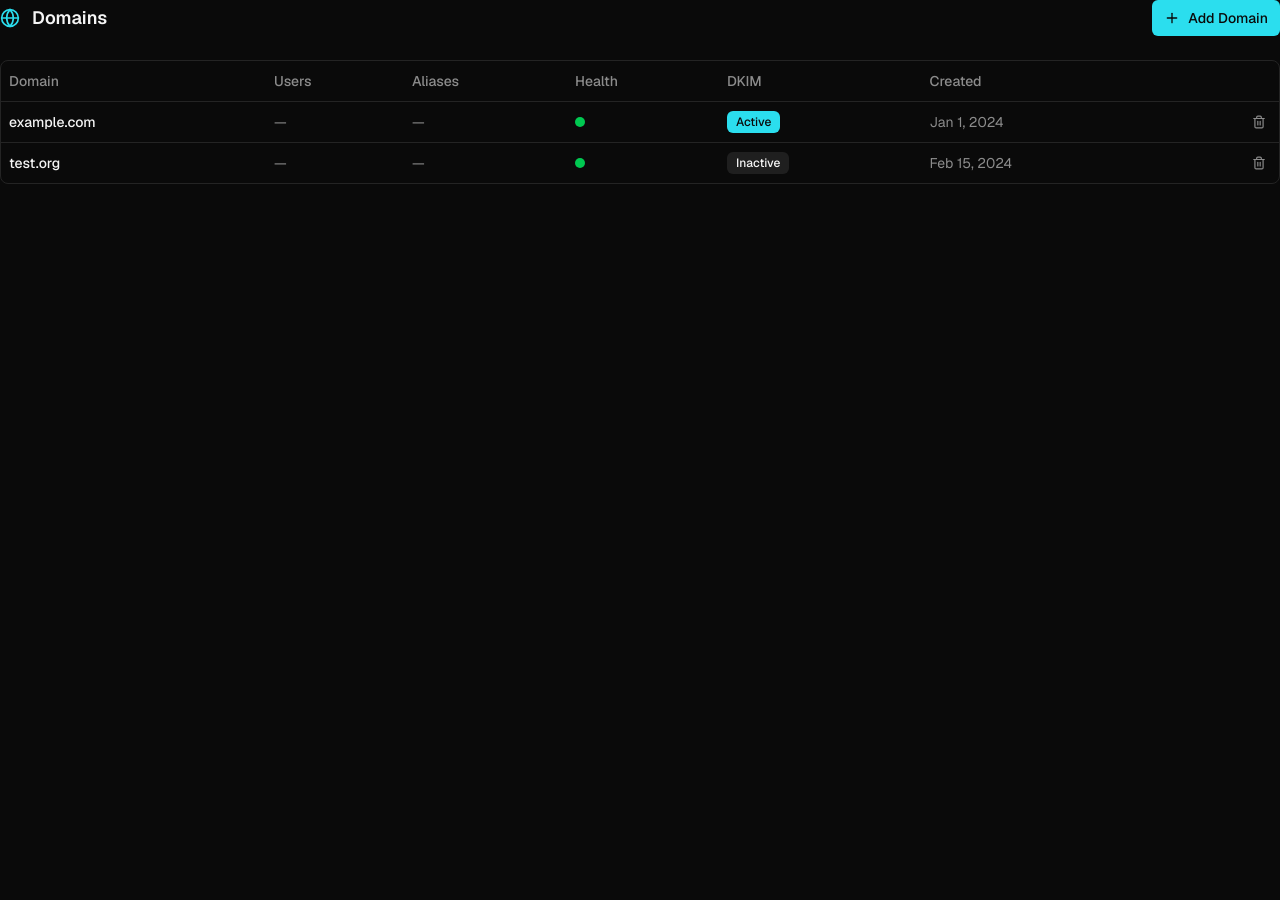
DomainsPage › opens delete dialog when delete button clicked
Step 1. Click the button with test id "delete-domain-1" → [1259, 122], box [1247,110,1271,134]
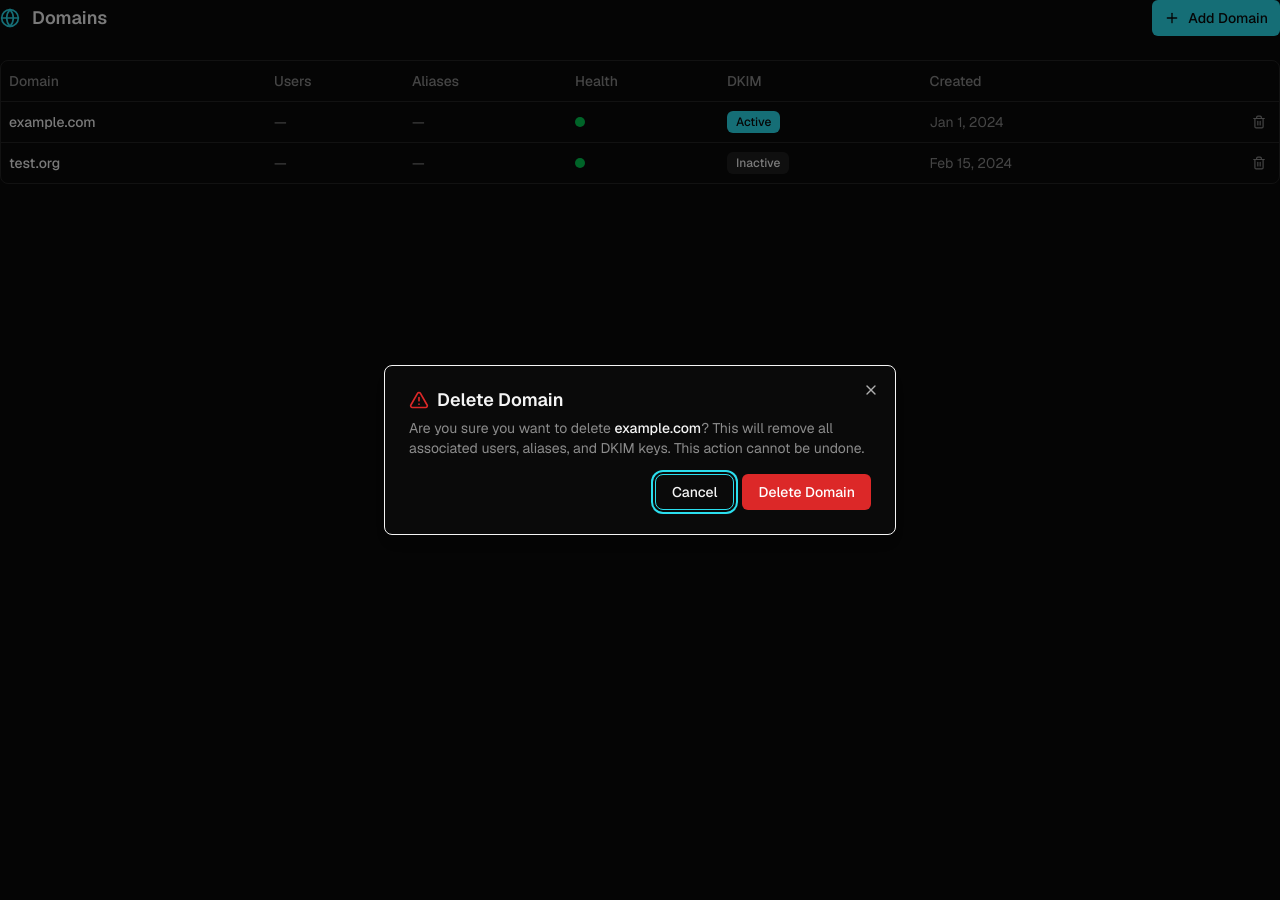
Check: the dialog with test id "delete-domain-dialog" is shown, box [384,365,896,535]
